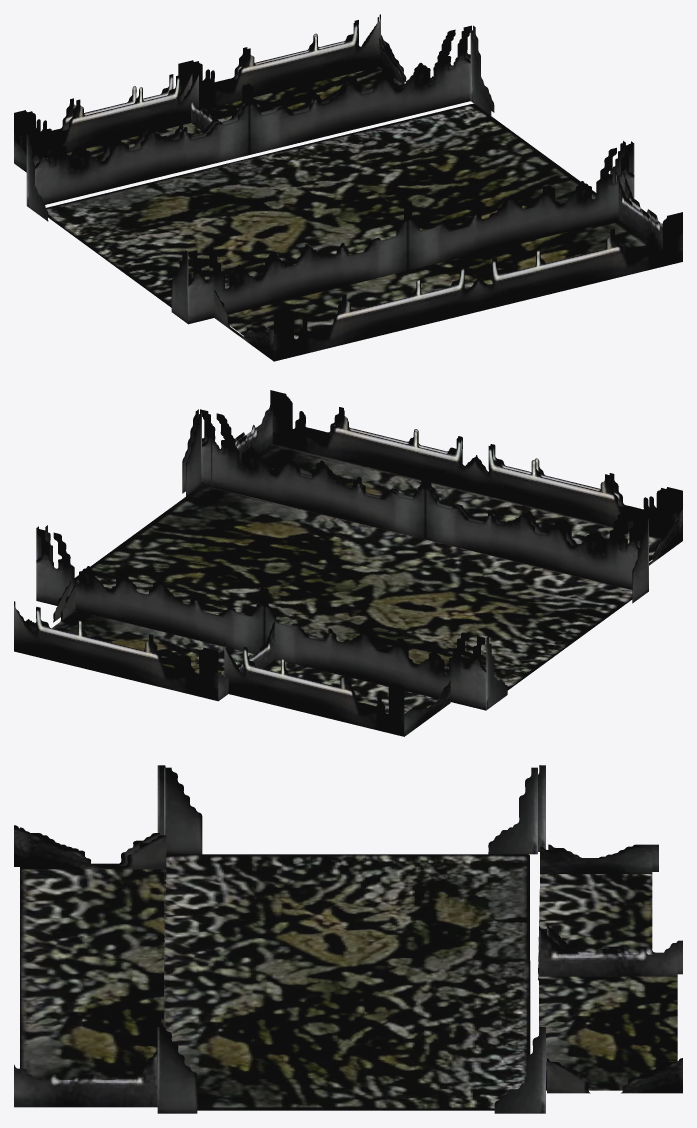
File: vehiclehangar_dam_hdtex.glb
3 renders of one model, top to bottom at view 1: azimuth 30°, elevation 25°; view 2: azimuth 150°, elevation 25°; view 3: azimuth 270°, elevation 25°, orthographic. The views are drawn at different scales.
Parts seen in each view (by area): view 1: VehicleHangar; view 2: VehicleHangar; view 3: VehicleHangar.
Part boxes in pixels (x1,y1,x2,y2): VehicleHangar: (14, 14, 682, 361); VehicleHangar: (14, 390, 682, 736); VehicleHangar: (14, 765, 682, 1113).
Size of the model in its own units: 21.06 by 3.25 by 22.74.
1 material, 1 textured.
